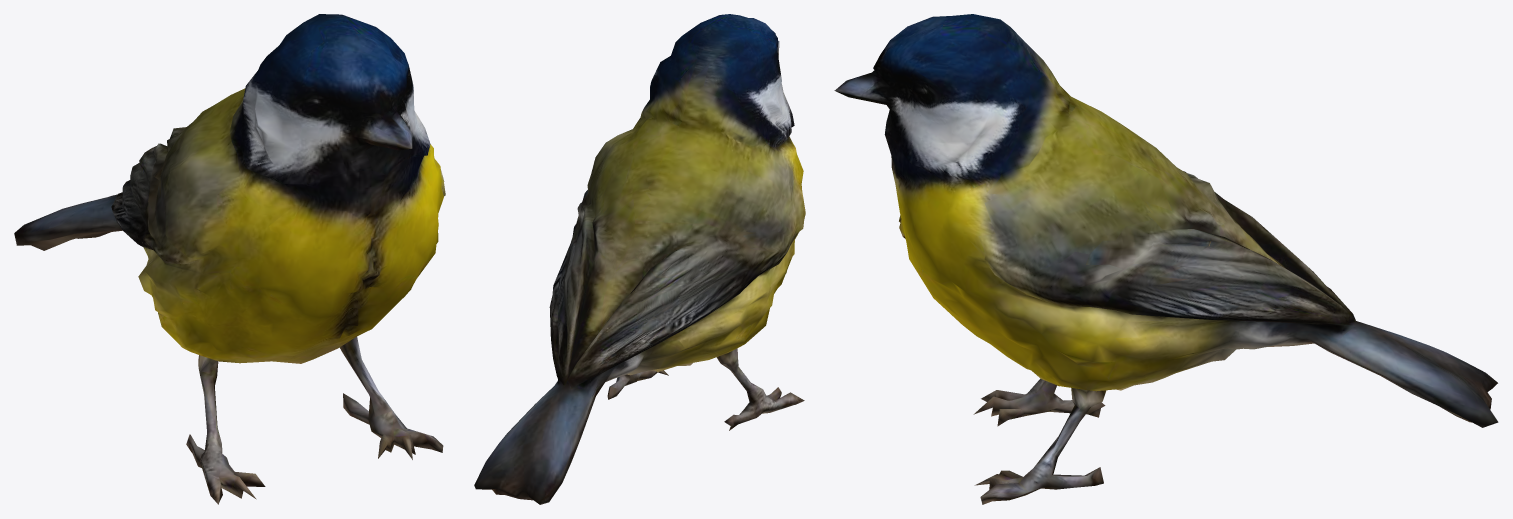
File: meise.glb
3 views of the same model, side by side, from view 1: azimuth 30°, elevation 25°; view 2: azimuth 150°, elevation 25°; view 3: azimuth 270°, elevation 25° (orthographic). The views are drawn at different scales.
Visible parts, largest first — view 1: tripo_node_f546b6a6-f84a-404d-bb0d-0c4ef3d2cd7e; view 2: tripo_node_f546b6a6-f84a-404d-bb0d-0c4ef3d2cd7e; view 3: tripo_node_f546b6a6-f84a-404d-bb0d-0c4ef3d2cd7e.
Part boxes in pixels (box(x1,y1,x2,y2)): tripo_node_f546b6a6-f84a-404d-bb0d-0c4ef3d2cd7e: box(14, 14, 445, 504); tripo_node_f546b6a6-f84a-404d-bb0d-0c4ef3d2cd7e: box(474, 14, 805, 504); tripo_node_f546b6a6-f84a-404d-bb0d-0c4ef3d2cd7e: box(834, 14, 1498, 504).
Size of the model in its own units: 0.4218 by 0.7225 by 1.
Materials: 1 (1 with a texture image).
